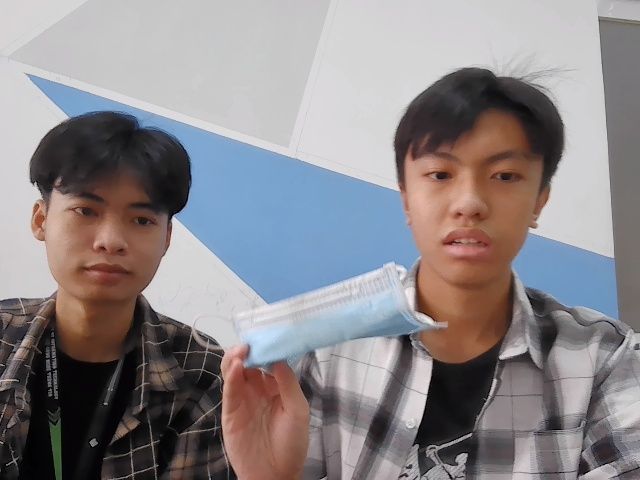human: (396, 50, 560, 274), (30, 97, 198, 308)
mask: (221, 269, 463, 372)
